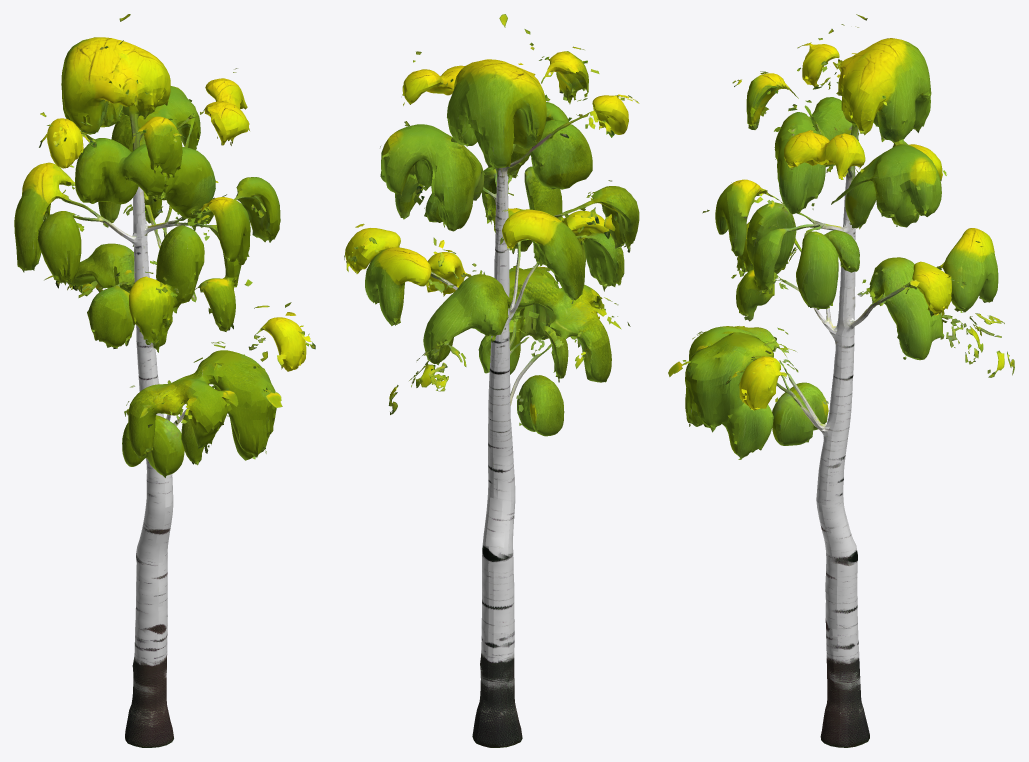
The model's file is raw_meshy_model.glb.
The picture shows the model from 3 angles, left to right: view 1: azimuth 30°, elevation 25°; view 2: azimuth 150°, elevation 25°; view 3: azimuth 270°, elevation 25°; orthographic projection.
Bounding box in the file's own units: 0.6462 × 1.85 × 0.8092.
1 material, 1 textured.
